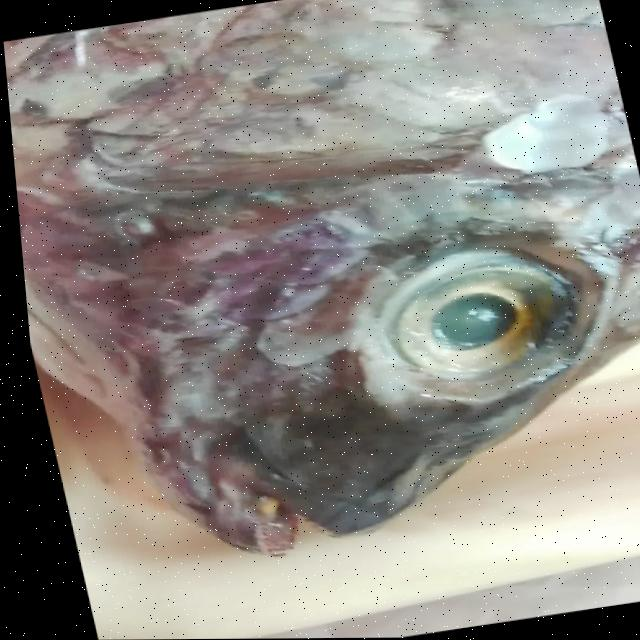Non-Fresh: (318, 208, 611, 428)
